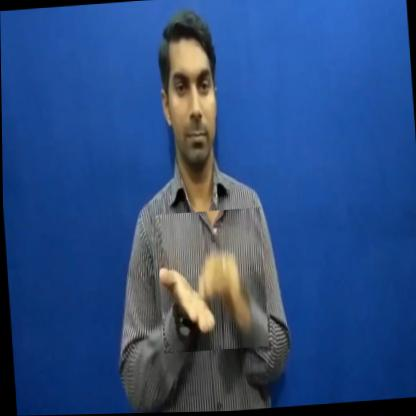ExcuseMe: (154, 207, 268, 354)
